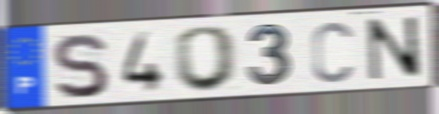3: (245, 20, 294, 90)
4: (120, 30, 167, 94)
C: (310, 19, 355, 85)
N: (364, 14, 426, 82)
O: (172, 23, 240, 94)
S: (49, 31, 111, 102)
